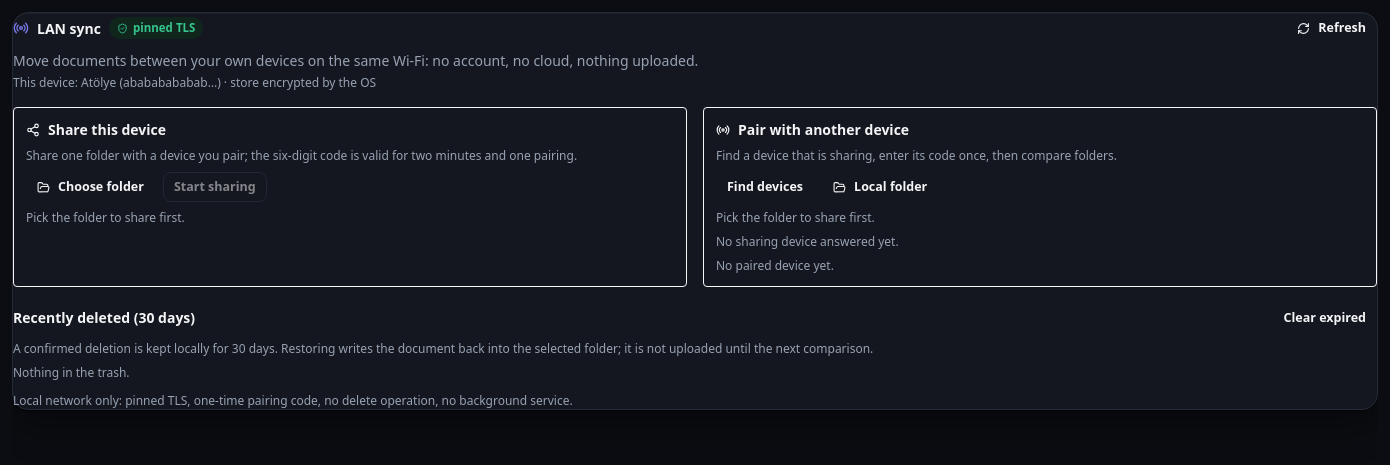
Test: LAN sync card › shares a picked folder and shows the six-digit code
Click the button "Choose folder": (90, 187) [26, 172, 155, 202]
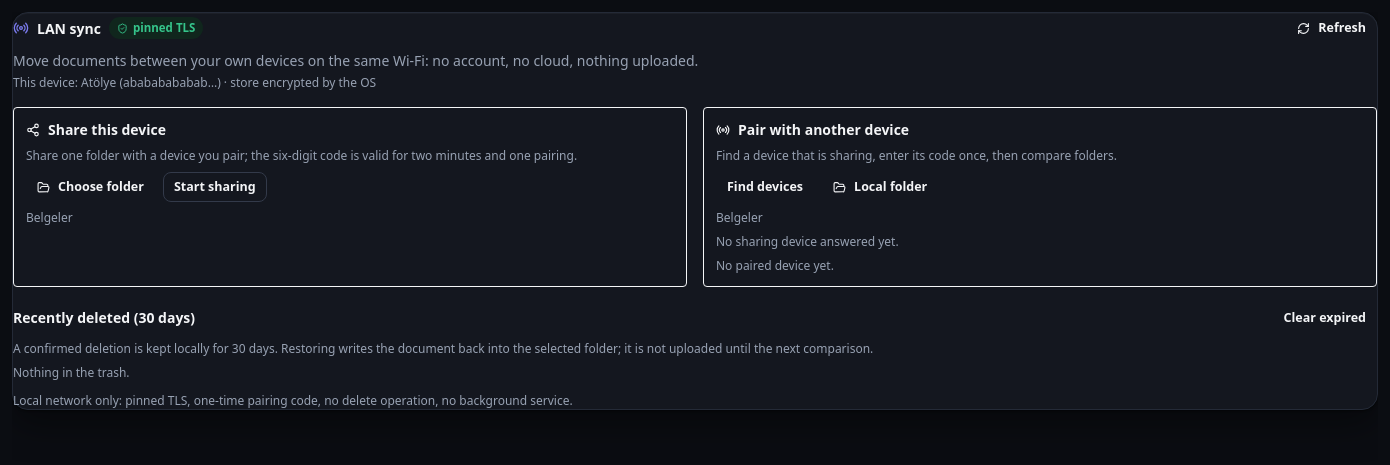
Click the button "Start sharing": (215, 187) [163, 172, 267, 202]
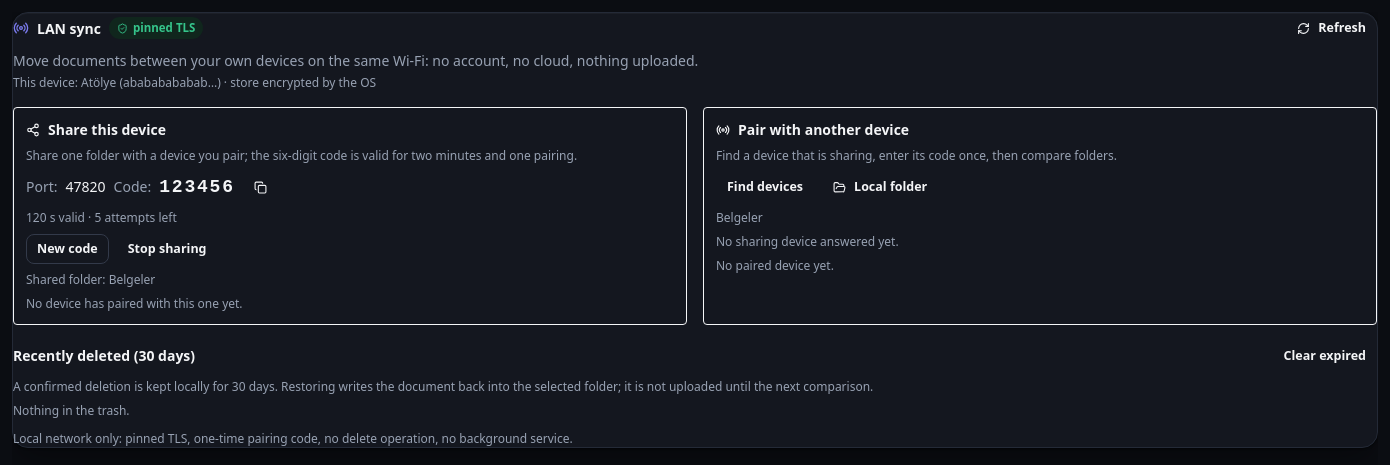
Now the text "123456" is shown, box [159, 173, 235, 201]
Now the button "Stop sharing" is shown, box [117, 234, 218, 264]
